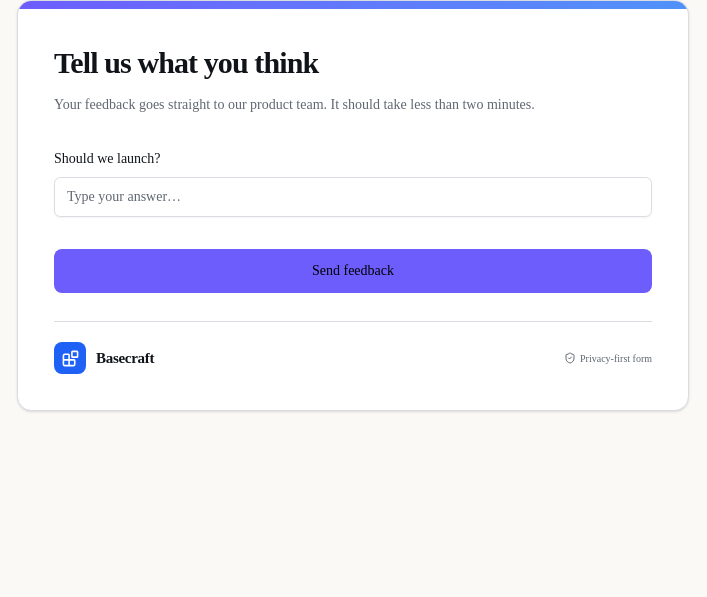
Scenario: PublicForm accessibility and validation › shows conditional questions from answers and prunes them when hidden
The width and height of the screenshot is (707, 597).
Later steps or results of the test are not shown.
Expected: the field labelled "Why should we launch" is not shown
Type "yes" into the field labelled "Should we launch?" at (353, 197), box [54,177,652,217]
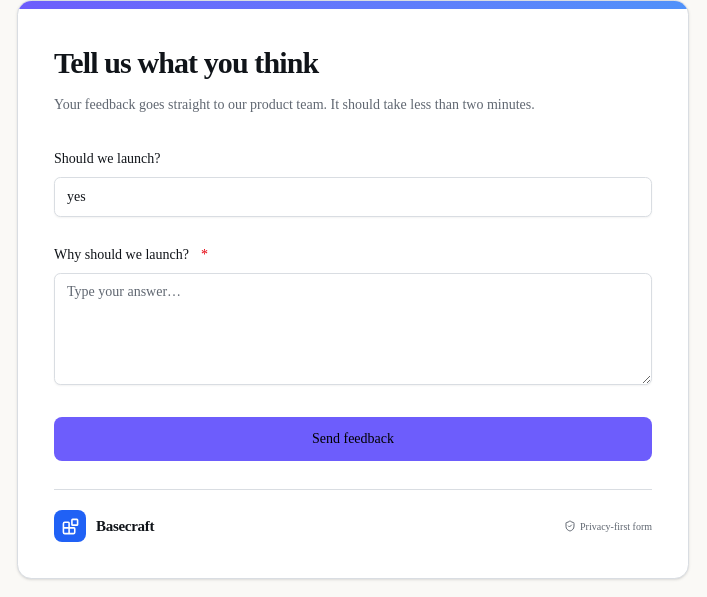
Type "A strong customer signal" into the text box labelled "Why should we launch? *" at (353, 329), box [54,273,652,385]
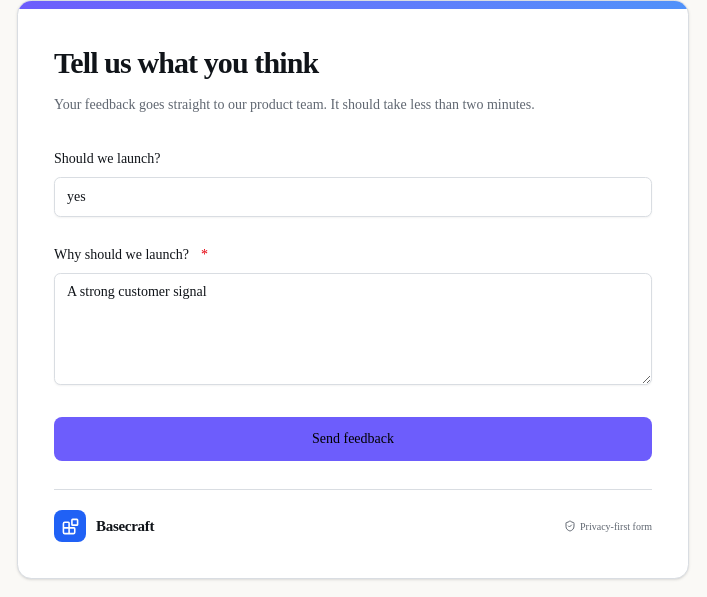
Replace the text in the field labelled "Should we launch?" with "no" at (353, 197), box [54,177,652,217]
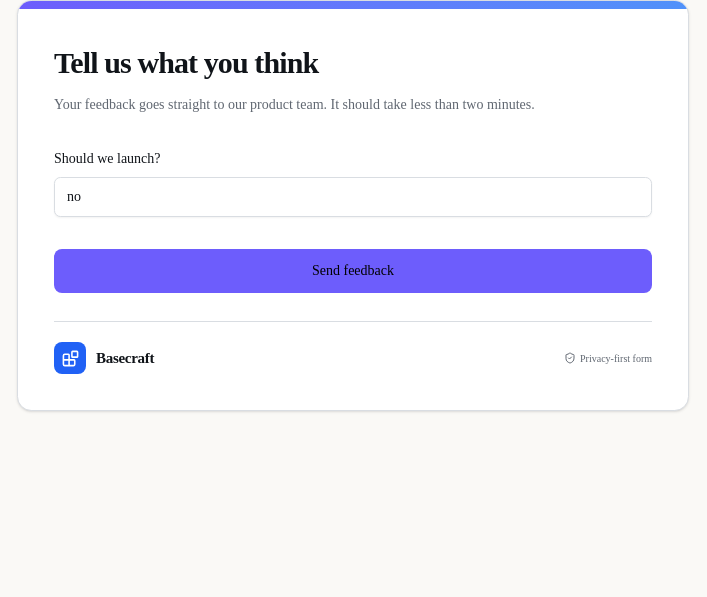
Expected: the label "Why should we launch" is gone
